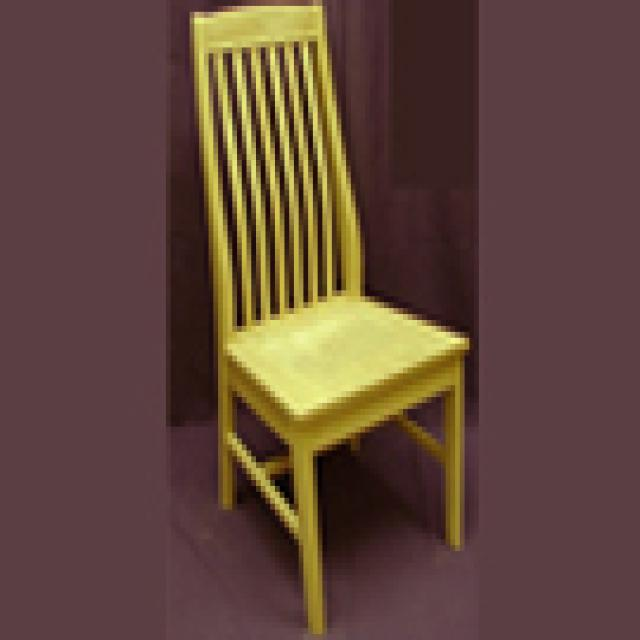chair: (185, 0, 469, 634)
